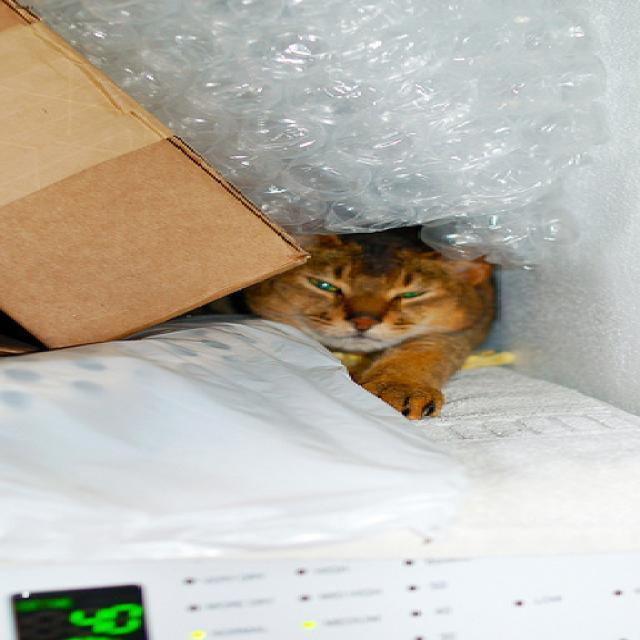Abyssinian: (261, 224, 478, 381)
